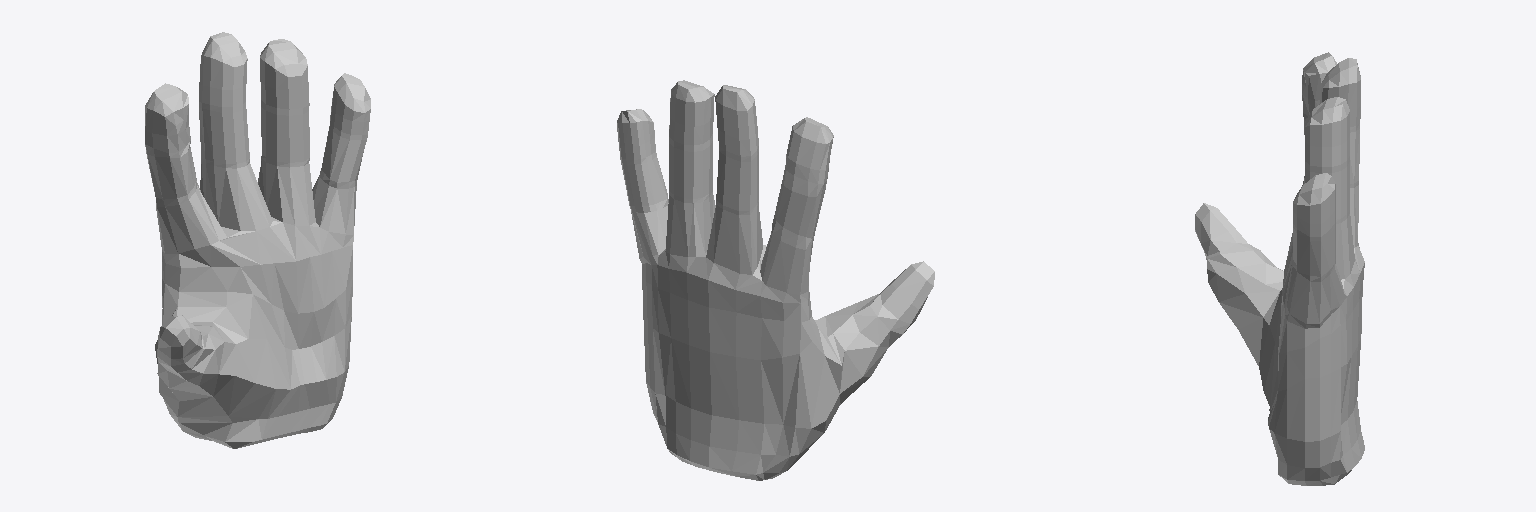
Rendered from mao_5.obj.
3 renders of one model, left to right at view 1: azimuth 30°, elevation 25°; view 2: azimuth 150°, elevation 25°; view 3: azimuth 270°, elevation 25°, orthographic.
Visible parts, largest first — view 1: Box05; view 2: Box05; view 3: Box05.
Boxes of the visible parts, box(x1,y1,x2,y2) form: Box05: box(145, 32, 370, 448); Box05: box(617, 80, 934, 480); Box05: box(1195, 52, 1364, 485).
Bounding box in the file's own units: 174 × 246 × 98.1.